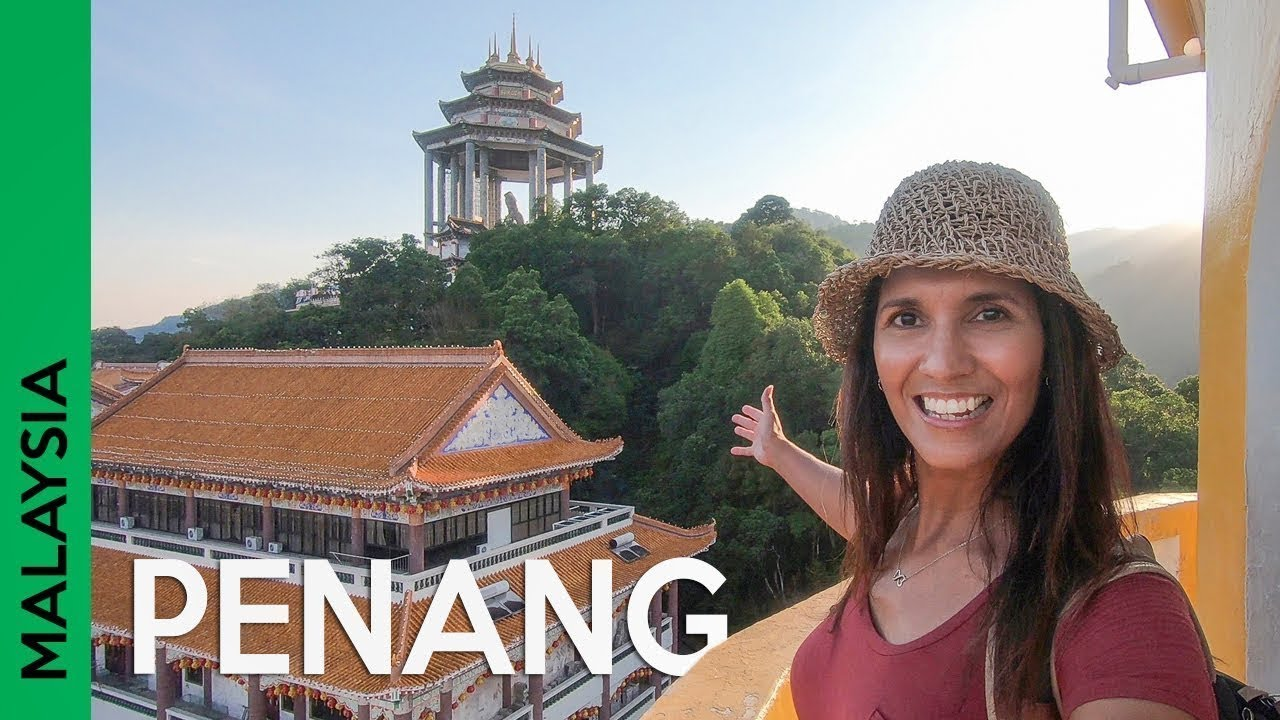Buddhist Temple: (413, 33, 584, 231)
